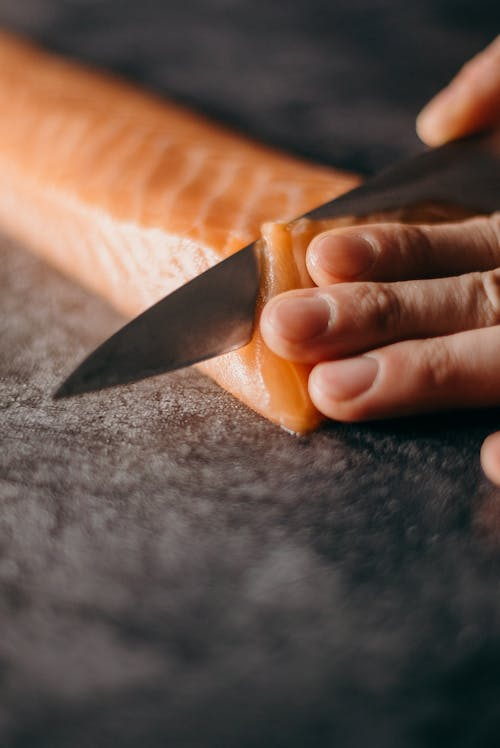knife: (49, 120, 500, 404)
